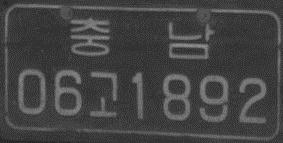0: (17, 68, 46, 115)
1: (125, 71, 153, 119)
2: (238, 76, 268, 125)
6: (53, 68, 83, 117)
8: (161, 73, 192, 122)
9: (198, 74, 228, 122)
고: (88, 70, 119, 119)
충남_D: (68, 16, 214, 60)
